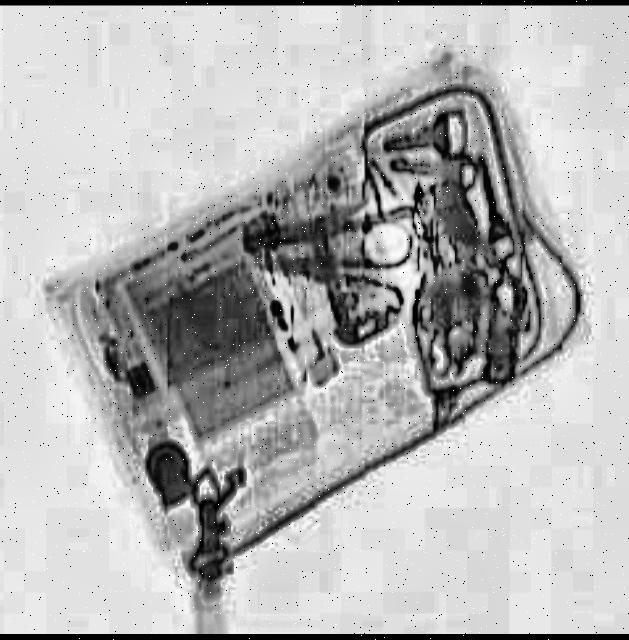Scissors: (258, 213, 416, 329)
